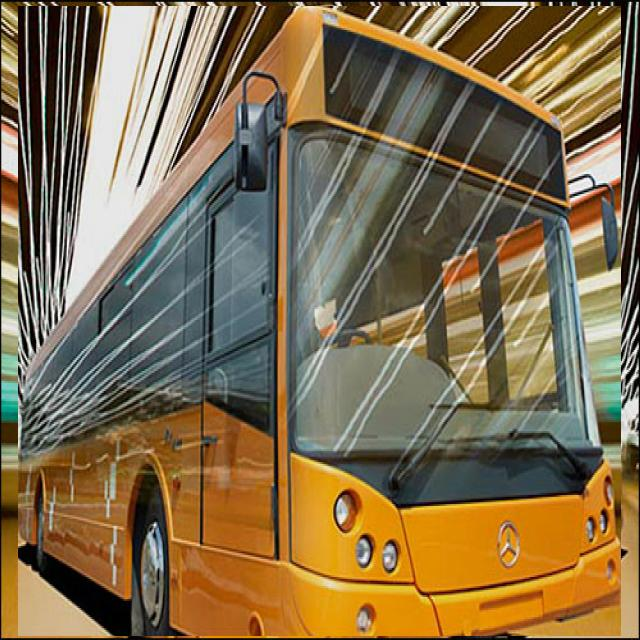bus: (18, 7, 621, 636)
